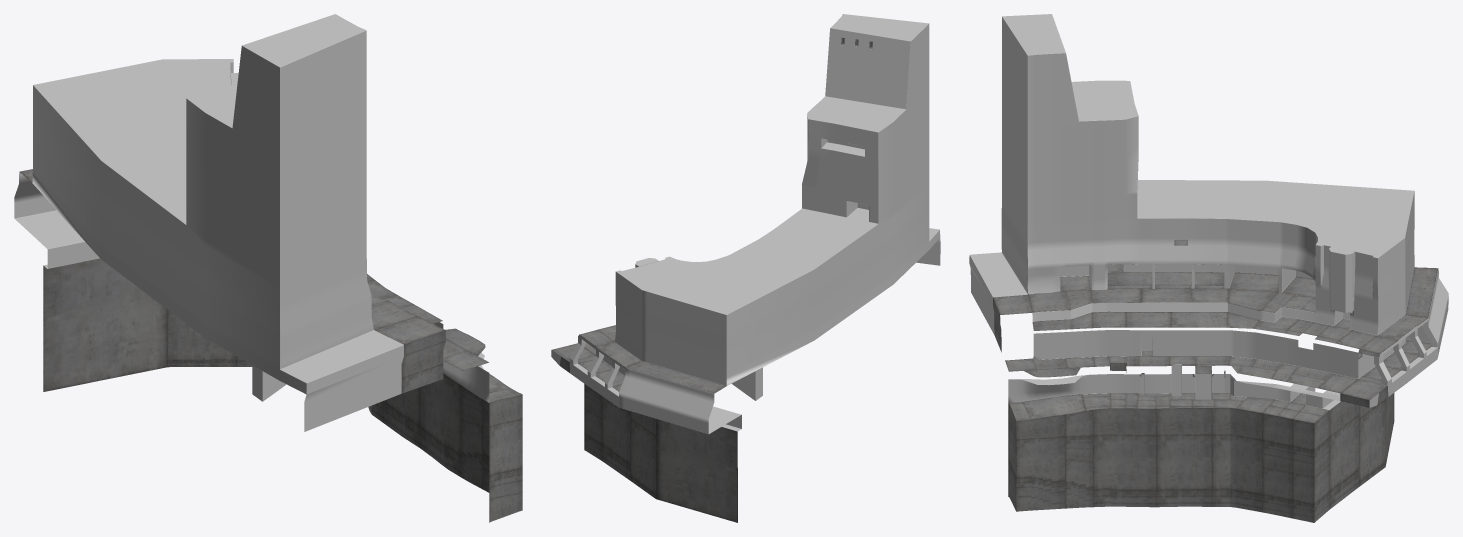
File: SM_CorridorSculpture_02_04.fbx
3 renders of one model, left to right at view 1: azimuth 30°, elevation 25°; view 2: azimuth 150°, elevation 25°; view 3: azimuth 270°, elevation 25°, orthographic. The views are drawn at different scales.
Parts seen in each view (by area): view 1: SM_CorridorSculpture_02_04; view 2: SM_CorridorSculpture_02_04; view 3: SM_CorridorSculpture_02_04.
Part boxes in pixels (x1,y1,x2,y2): SM_CorridorSculpture_02_04: [14, 14, 522, 522]; SM_CorridorSculpture_02_04: [551, 14, 940, 522]; SM_CorridorSculpture_02_04: [969, 14, 1448, 522].
Bounding box in the file's own units: 4716 × 7673 × 8317.
